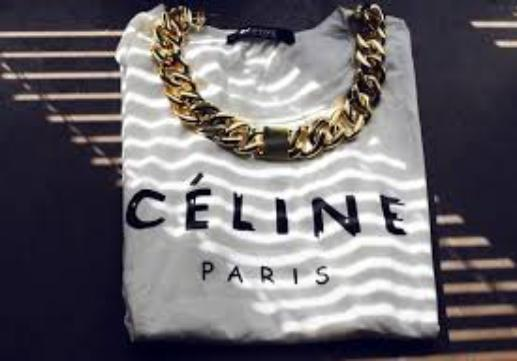CELINE: (124, 161, 415, 248)
